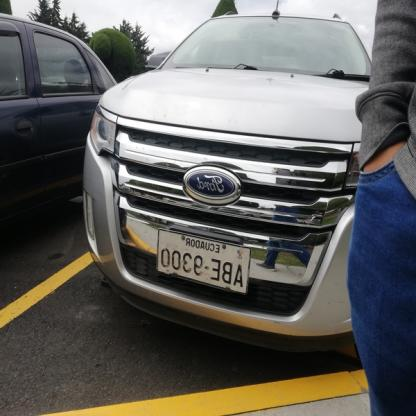Placa: (152, 230, 251, 289)
